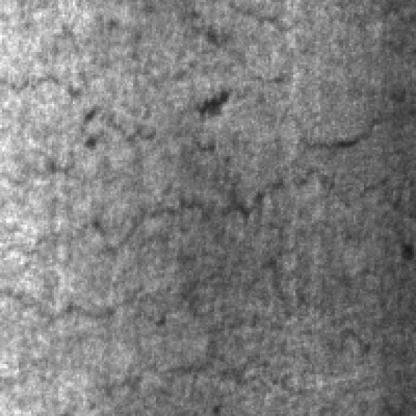crazing: (27, 137, 372, 358), (31, 8, 300, 131), (289, 104, 416, 233)
